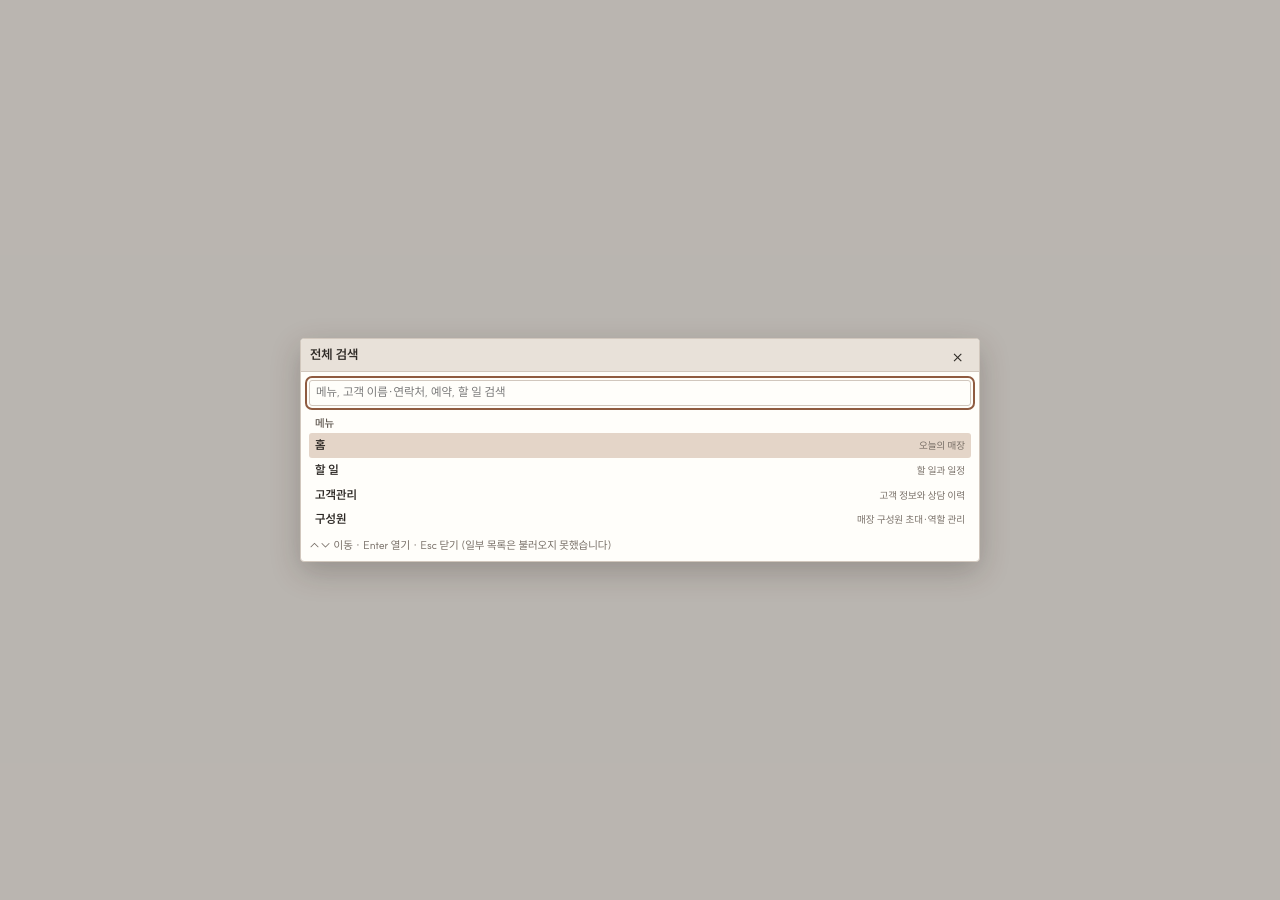
Scenario: SearchPalette › 일부 목록 로드가 실패해도 나머지로 검색하고 안내한다
Expected: the message shows "일부 목록은 불러오지 못했습니다", x1=459 y1=538 x2=612 y2=552
Type "김하나" into the dropdown named "검색어" at (640, 392), box x1=309 y1=380 x2=971 y2=406
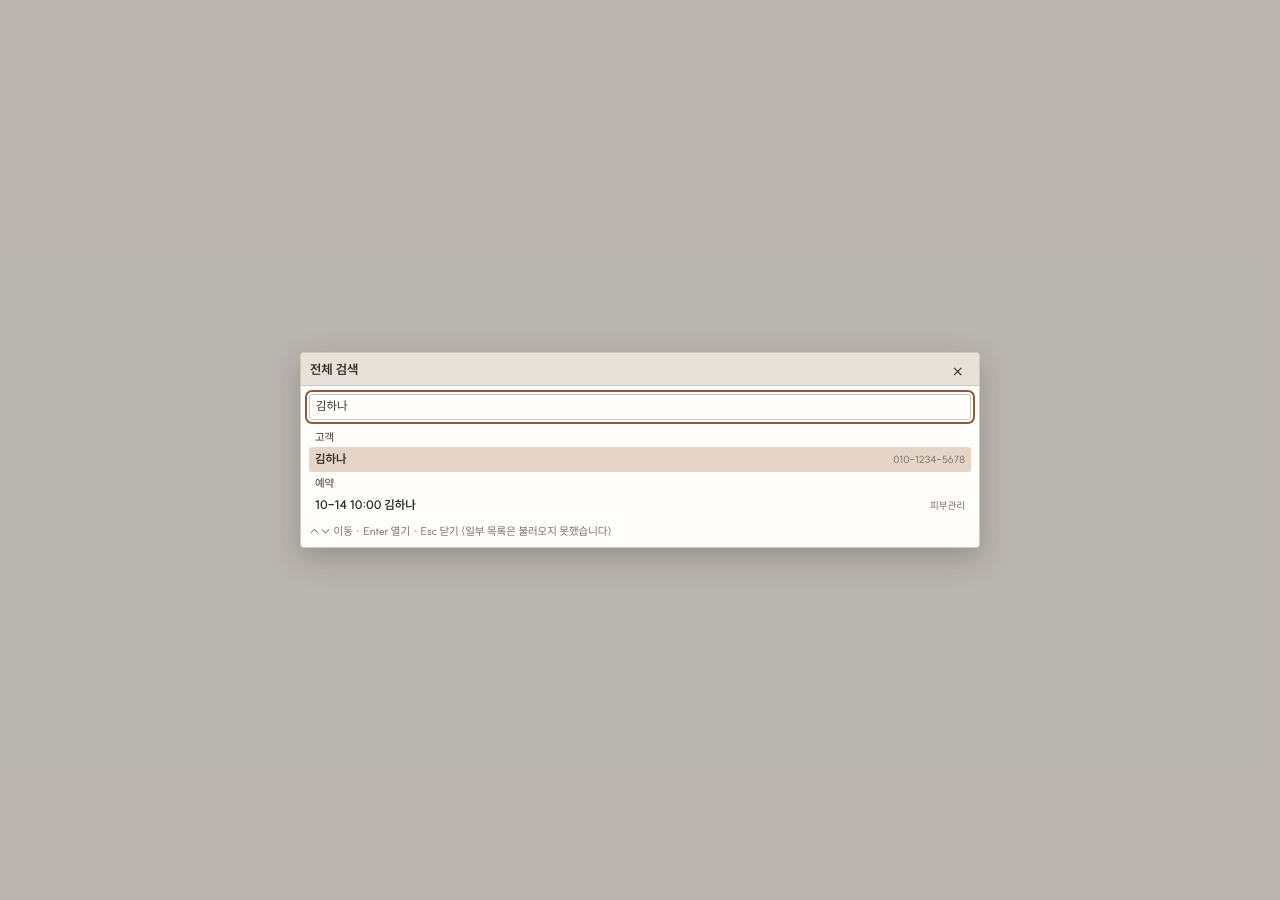
Expected: the list named "고객" is shown, x1=309 y1=447 x2=971 y2=472
